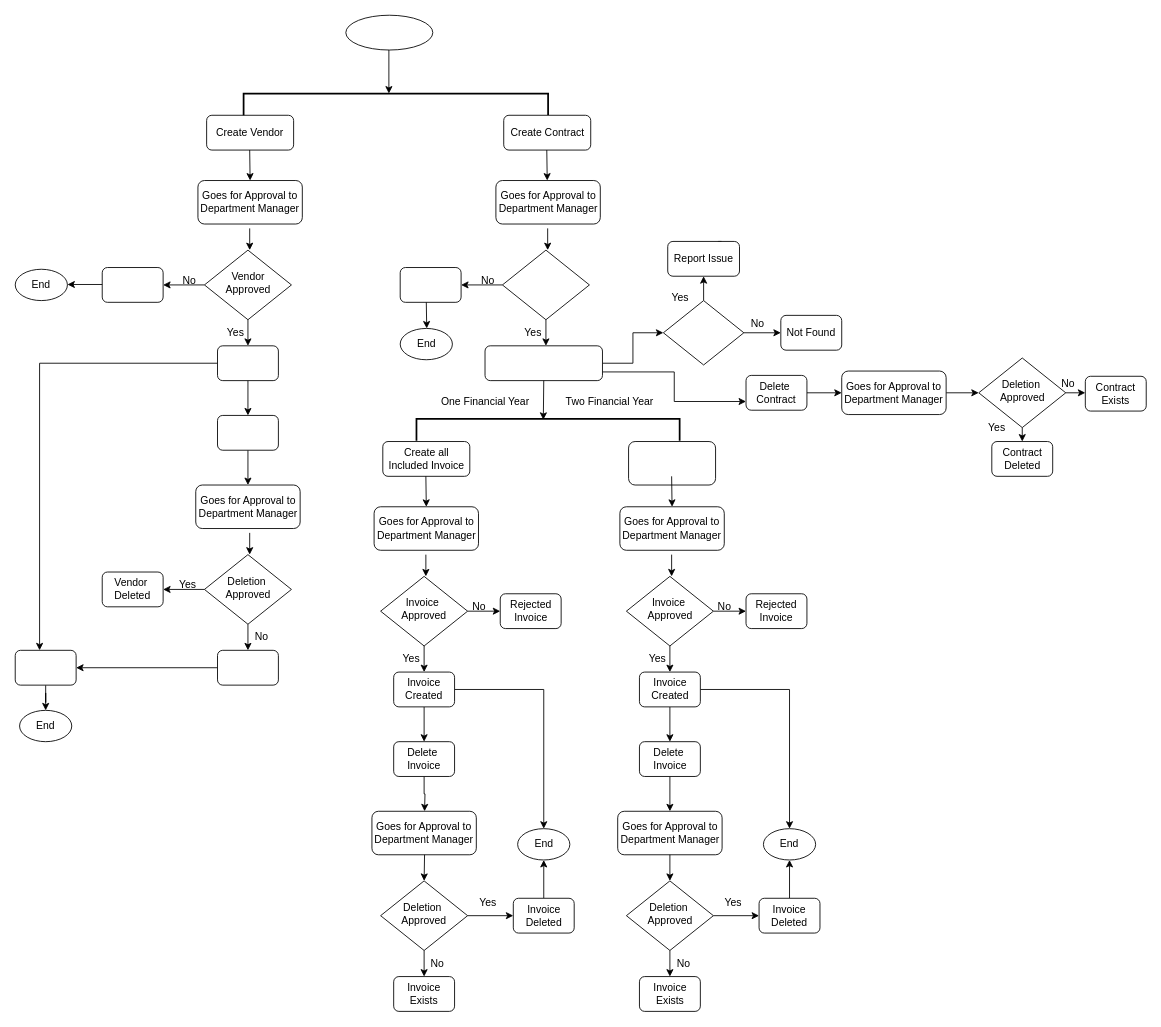
This 1161x1027 diagram has some shape labels left out. Each missing label, with the centre of its shape:
Contract Approved: [545,284]
Contract Created: [543,363]
Create Invoice for current Financial Year: [672,463]
Delete Vendor: [247,432]
Issues Identified: [703,332]
Rejected Contract: [430,284]
Rejected Vendor: [132,284]
Start: [389,32]
Vendor Created: [247,363]
Vendor Exist: [247,667]
Vendor Rating: [45,667]
